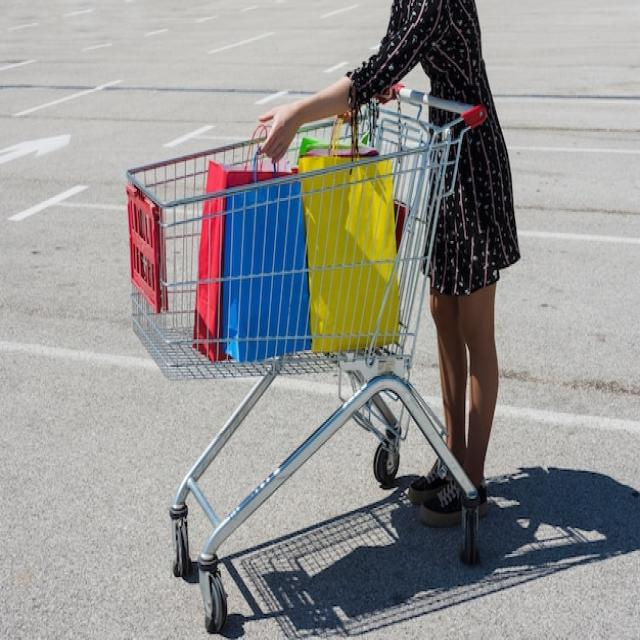Person: (258, 0, 520, 531)
